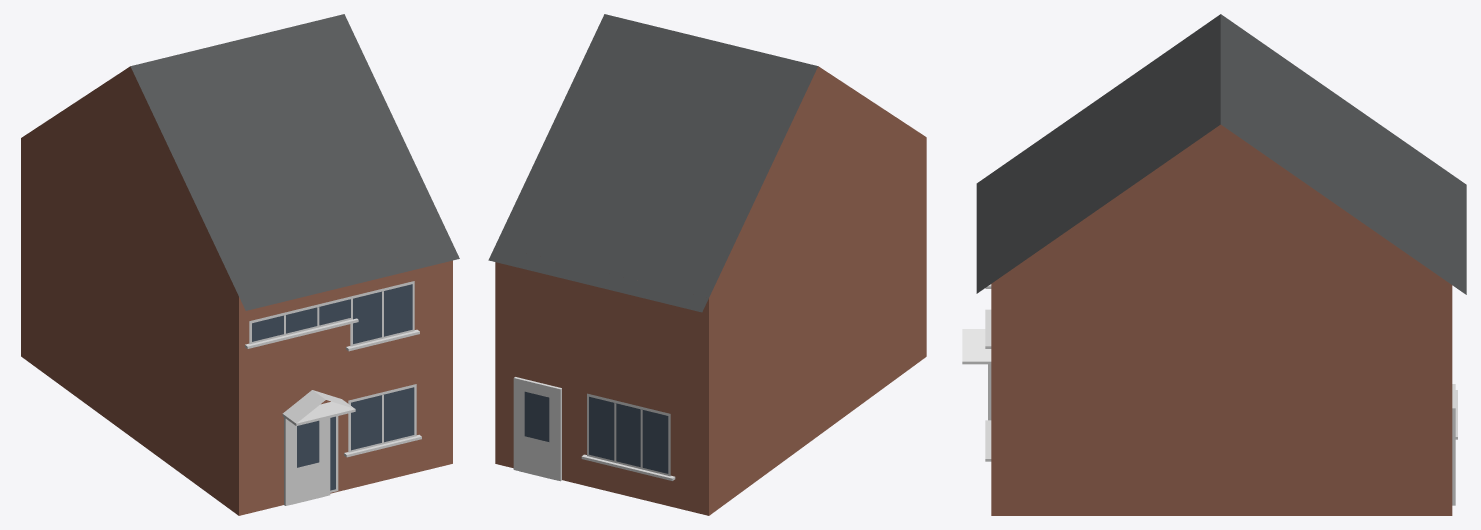
The model's file is zo-ho-hood__white-frames__2__gable__long__solid.glb.
The picture shows the model from 3 angles, left to right: view 1: azimuth 30°, elevation 25°; view 2: azimuth 150°, elevation 25°; view 3: azimuth 270°, elevation 25°; orthographic projection. The views are drawn at different scales.
Parts seen in each view (by area): view 1: zo-ho-hood__white-frames__2__gable__long__solid; view 2: zo-ho-hood__white-frames__2__gable__long__solid; view 3: zo-ho-hood__white-frames__2__gable__long__solid.
Boxes of the visible parts, x1,y1,x2,y2 form: zo-ho-hood__white-frames__2__gable__long__solid: [21, 14, 459, 515]; zo-ho-hood__white-frames__2__gable__long__solid: [488, 14, 926, 515]; zo-ho-hood__white-frames__2__gable__long__solid: [962, 14, 1466, 515].
Bounding box in the file's own units: 5.4 × 8.93 × 10.43.
